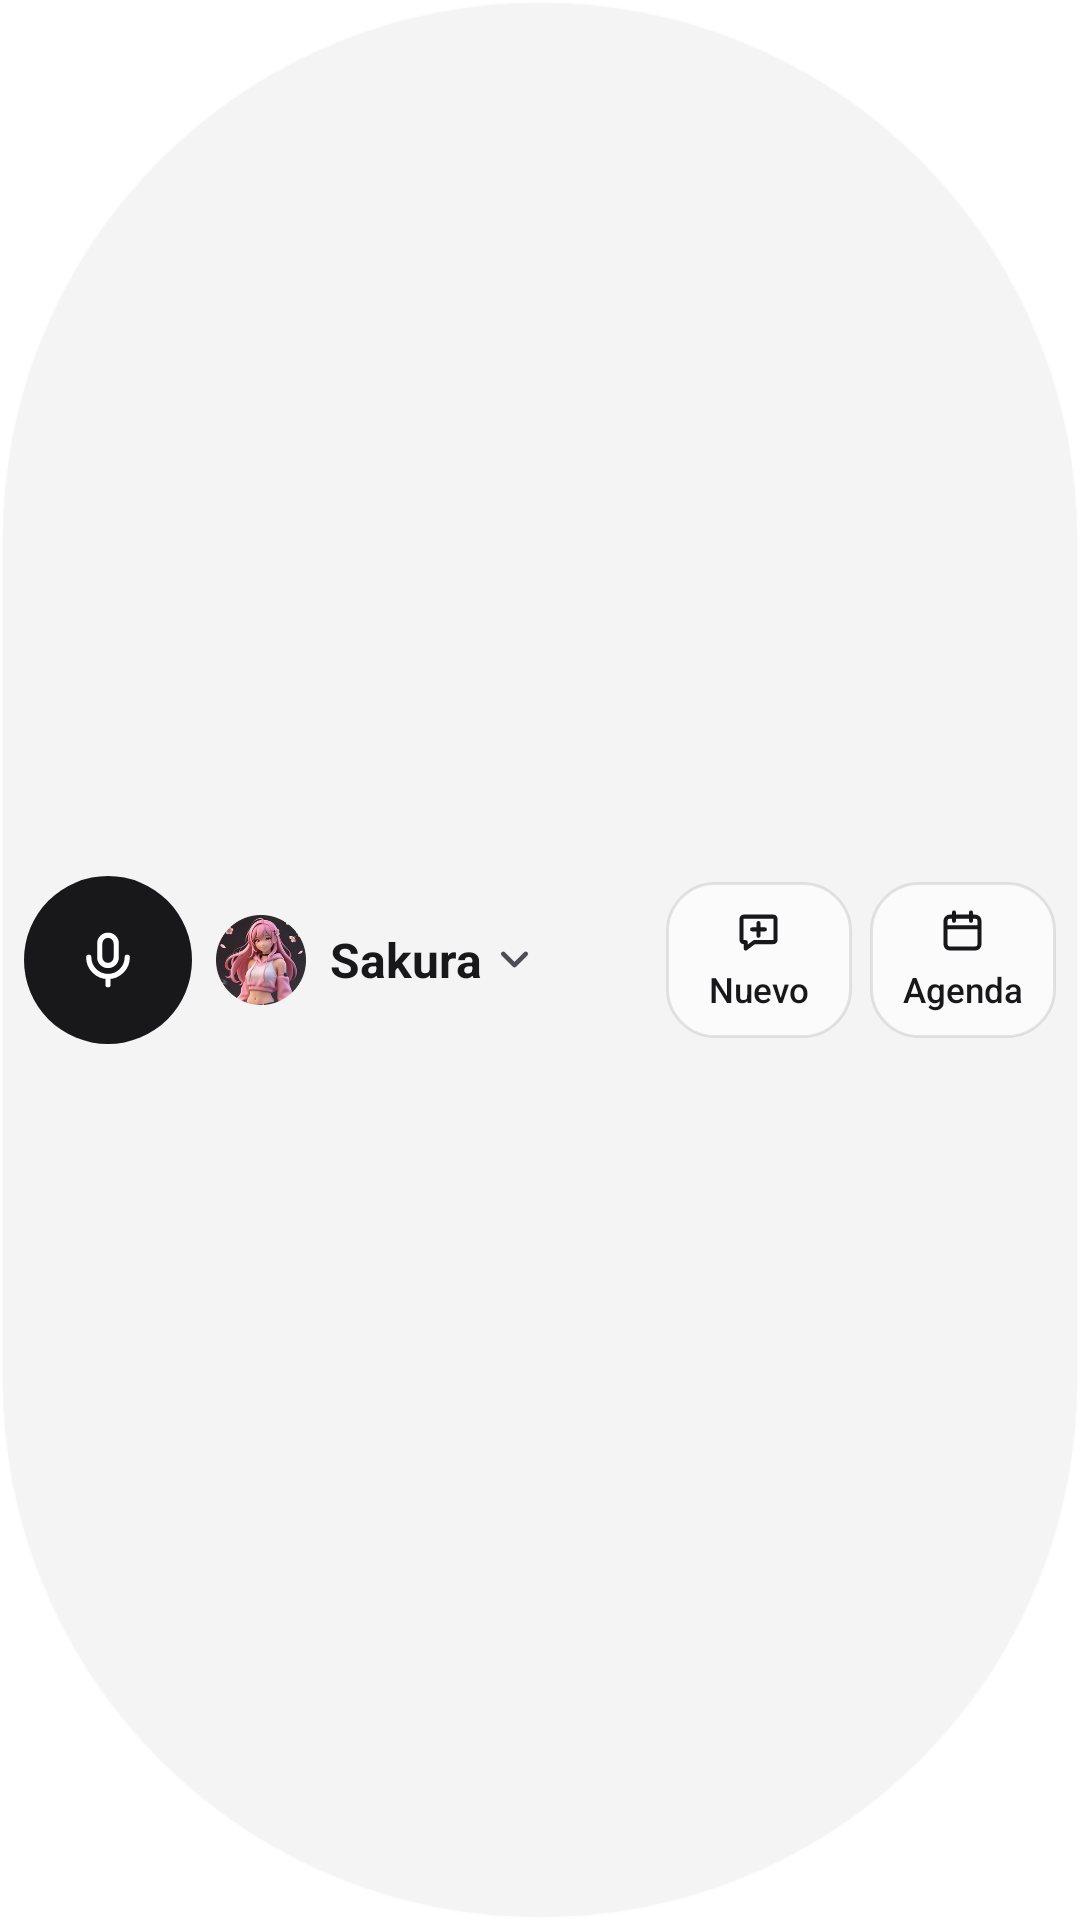

Where icons sit on this 1080w x 1920h app screen, as (x1, y1, x2, y2):
ui chat plus: (739, 914, 778, 951)
